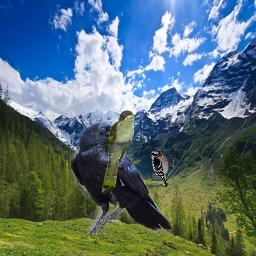Crow: (70, 121, 175, 234)
Cuckoo: (102, 110, 140, 194)
Woodpecker: (151, 150, 173, 187)
